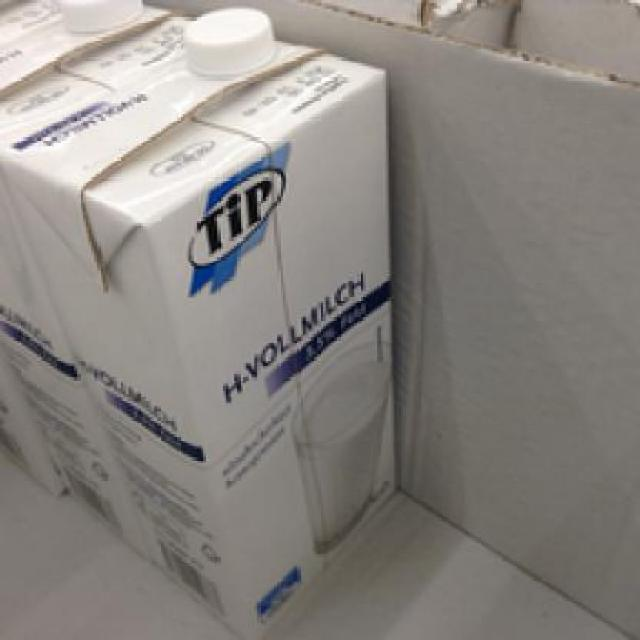Milk: (9, 6, 408, 628)
